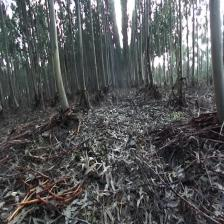trunk: (48, 4, 68, 108), (209, 0, 224, 124), (76, 6, 88, 104), (89, 16, 99, 94), (178, 13, 184, 94)
